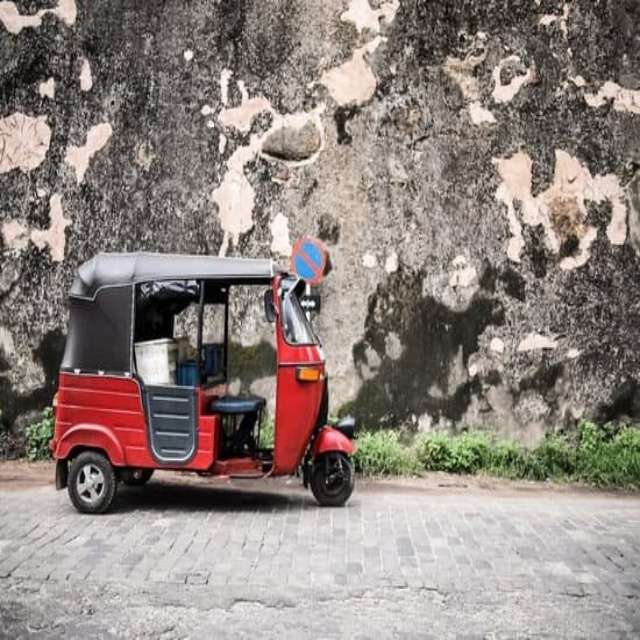Motorcycle: (48, 254, 356, 516)
